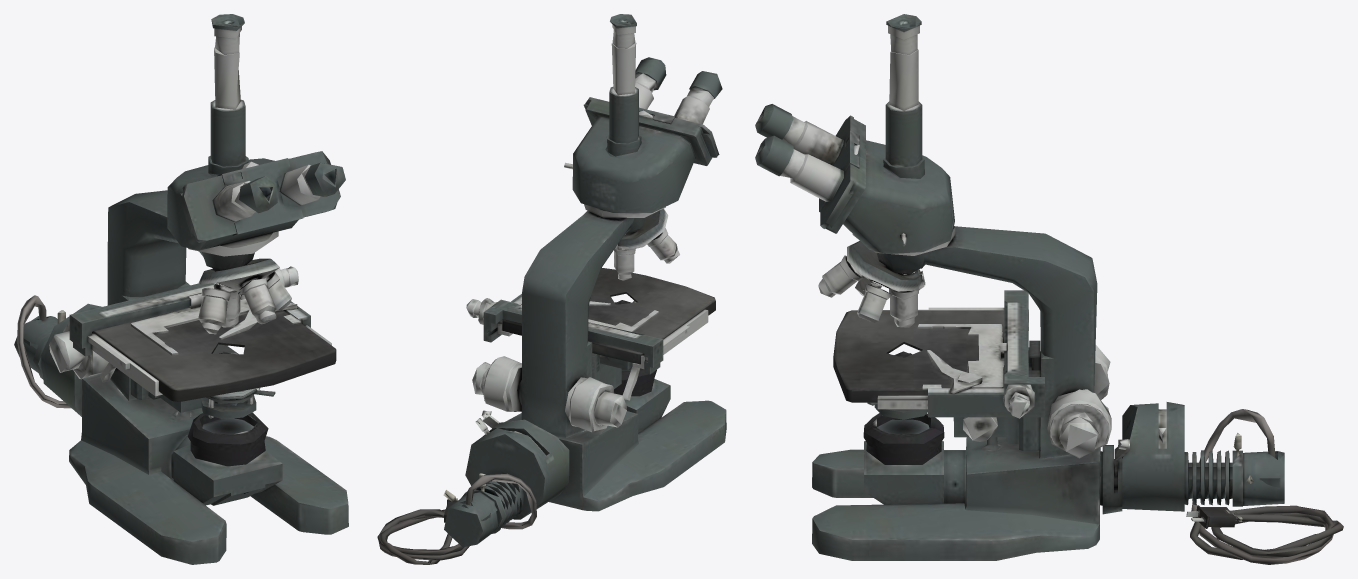
Rendered from microscope.glb.
3 views of the same model, side by side, from view 1: azimuth 30°, elevation 25°; view 2: azimuth 150°, elevation 25°; view 3: azimuth 270°, elevation 25° (orthographic). The views are drawn at different scales.
Bounding box in the file's own units: 0.2145 × 0.4617 × 0.4967.
Materials: 1 (1 with a texture image).
